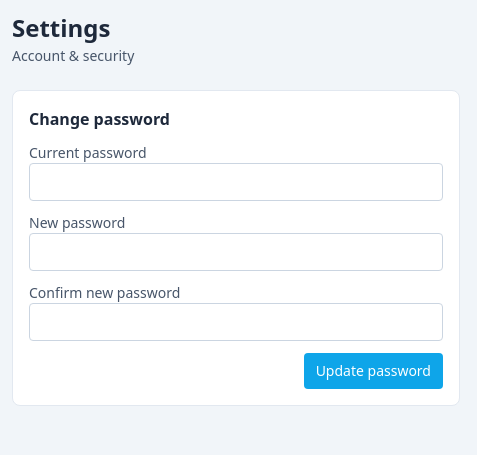
Test: SettingsPage › submits current and new password and confirms
Type "Old1!aa" into the password field labelled "Current password". click: x=236, y=182
box: [29,163,443,201]
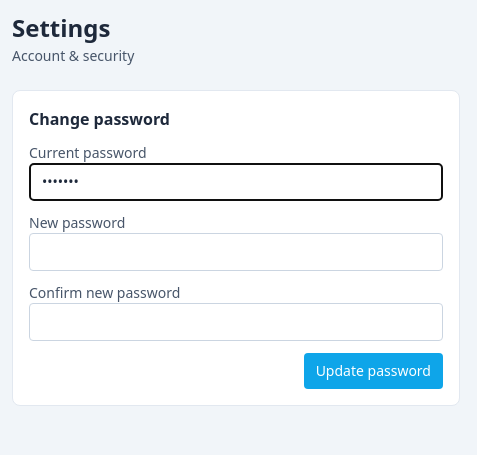
Type "New2!bb" into the password field labelled "New password". click: x=236, y=252
box: [29,233,443,271]
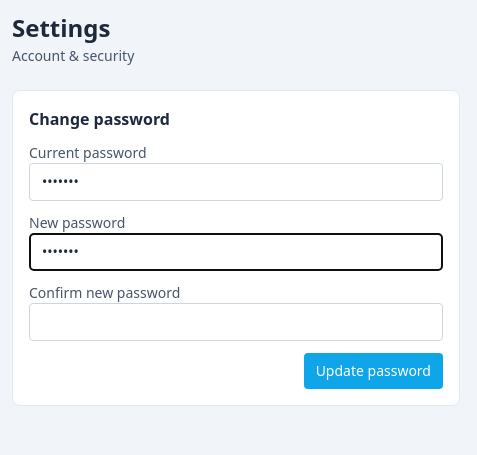
Type "New2!bb" into the password field labelled "Confirm new password". click: x=236, y=322
box: [29,303,443,341]
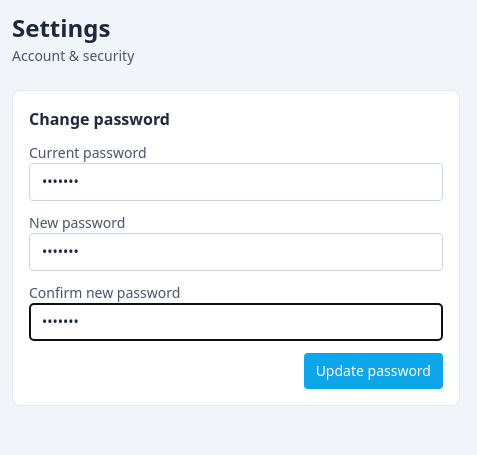
Click the button "Update password". click: x=373, y=371
box: [304,353,443,389]
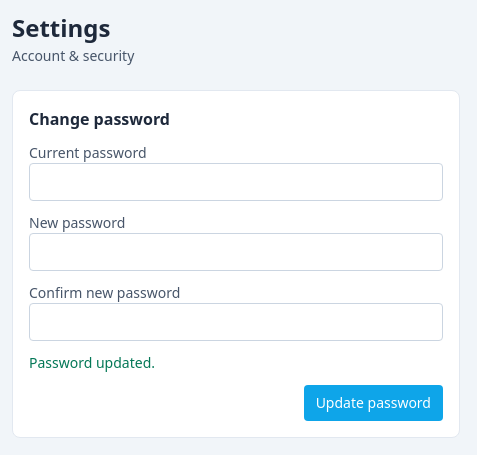
Result: the text "Password updated." is shown at [29,353,155,372]
